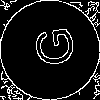G: (25, 25, 76, 70)
